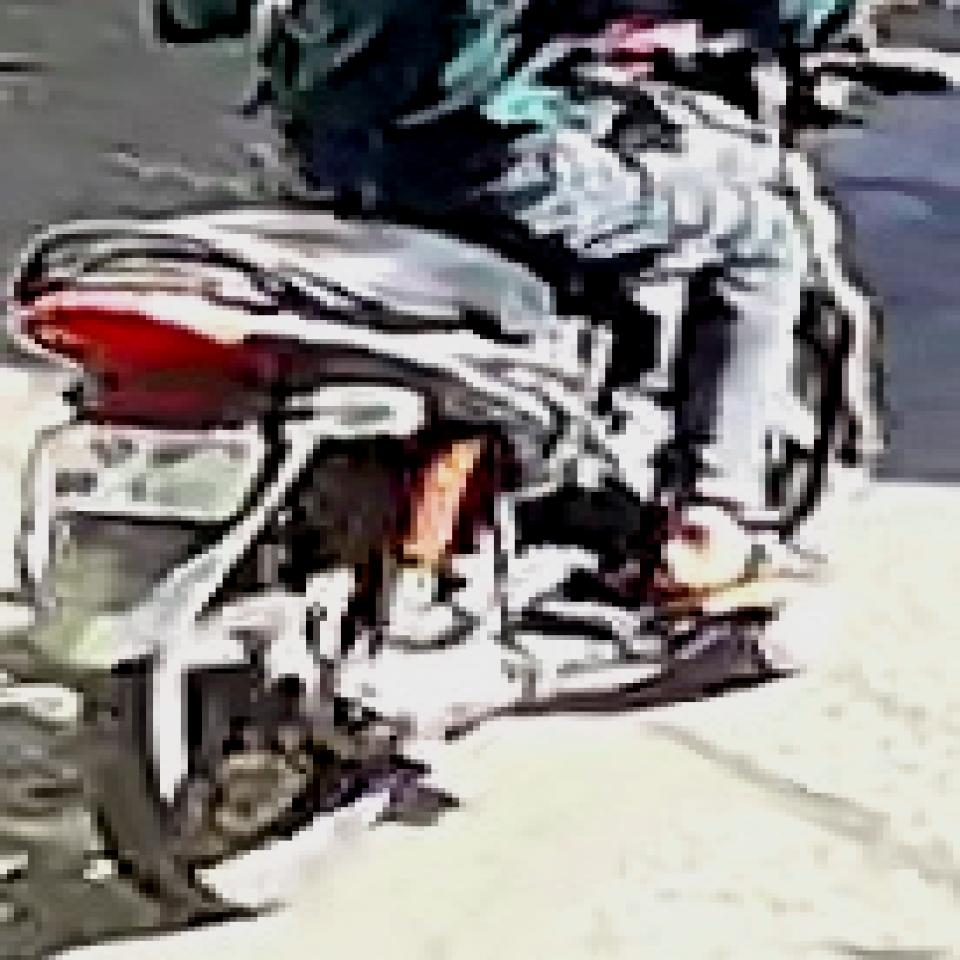tail_light: (22, 298, 247, 416)
